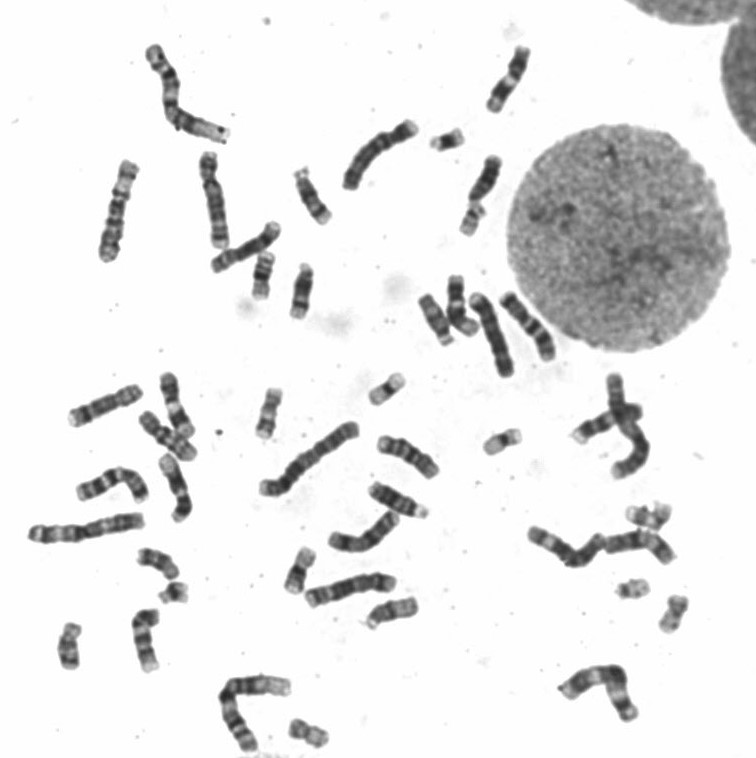chromosomes: (138, 37, 235, 147), (256, 417, 363, 501), (213, 669, 302, 755), (551, 657, 650, 732), (339, 112, 427, 196), (600, 368, 656, 484), (96, 157, 146, 269), (498, 280, 561, 368), (521, 517, 605, 580), (465, 287, 519, 381), (192, 147, 236, 261), (61, 380, 151, 432), (28, 510, 155, 546), (207, 218, 289, 273), (566, 396, 647, 450), (303, 567, 404, 610), (323, 508, 407, 559), (486, 40, 537, 118), (371, 433, 446, 486), (136, 410, 204, 467), (72, 462, 154, 509), (602, 526, 684, 569), (365, 480, 439, 526), (159, 364, 202, 440), (290, 161, 337, 228), (443, 271, 487, 342), (413, 286, 458, 353), (157, 453, 195, 530), (367, 592, 428, 637), (127, 602, 163, 677), (49, 610, 93, 671), (288, 260, 324, 322), (133, 541, 186, 583), (243, 247, 278, 310), (253, 384, 288, 445), (467, 151, 505, 206), (281, 543, 320, 596), (364, 364, 409, 408), (284, 715, 336, 753), (623, 502, 681, 535), (478, 427, 534, 460), (657, 593, 700, 635), (429, 122, 469, 156), (612, 573, 652, 606), (157, 578, 197, 609), (458, 208, 488, 239)
